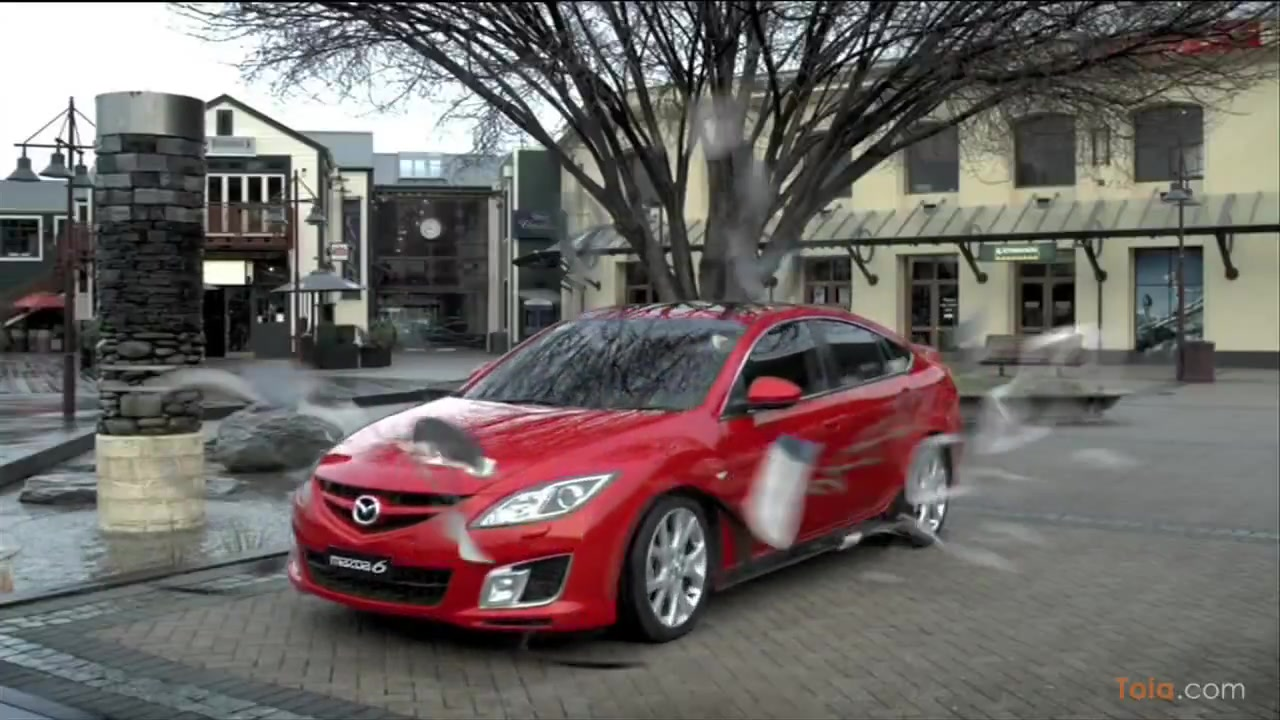car: (283, 306, 969, 661)
